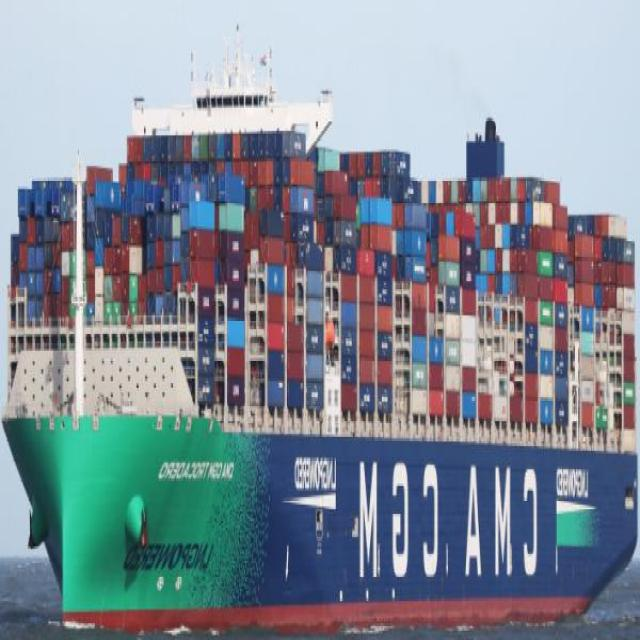Container Ship: (3, 22, 636, 632)
